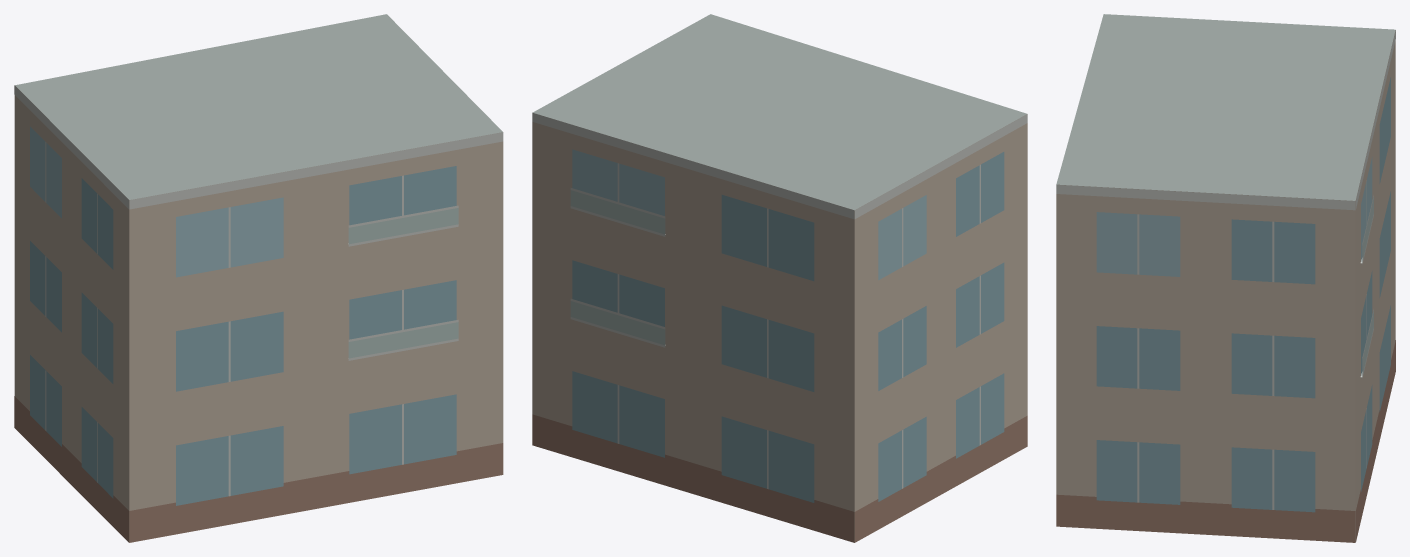
File: survey-upis-32972821.glb
3 views of the same model, side by side, from view 1: azimuth 30°, elevation 25°; view 2: azimuth 150°, elevation 25°; view 3: azimuth 270°, elevation 25° (orthographic). The views are drawn at different scales.
Visible parts, largest first — view 1: survey-upis-32972821.tmp; view 2: survey-upis-32972821.tmp; view 3: survey-upis-32972821.tmp.
Boxes of the visible parts, bbox=[...] form: survey-upis-32972821.tmp: bbox=[14, 14, 503, 542]; survey-upis-32972821.tmp: bbox=[532, 14, 1027, 542]; survey-upis-32972821.tmp: bbox=[1056, 14, 1395, 542].
Bounding box in the file's own units: 10.44 × 8.9 × 8.02.
